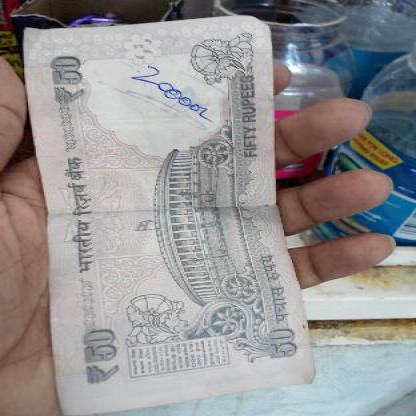Old50Back: (26, 32, 314, 384)
